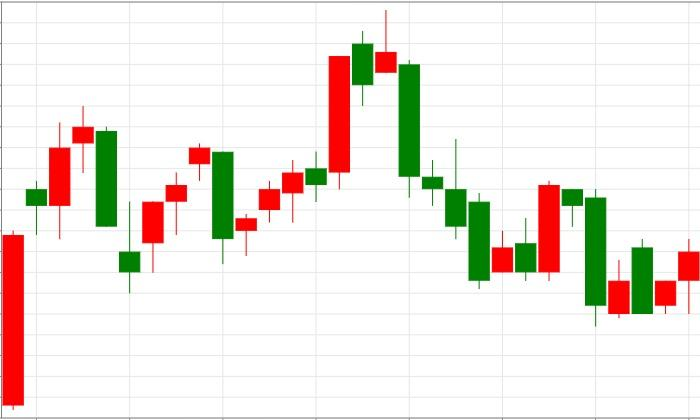bullish_engulfing_rise: (375, 9, 561, 289)
shooting_star_fall: (212, 10, 398, 264)
three_white_soldiers_rise: (71, 105, 211, 294), (188, 143, 304, 265)
